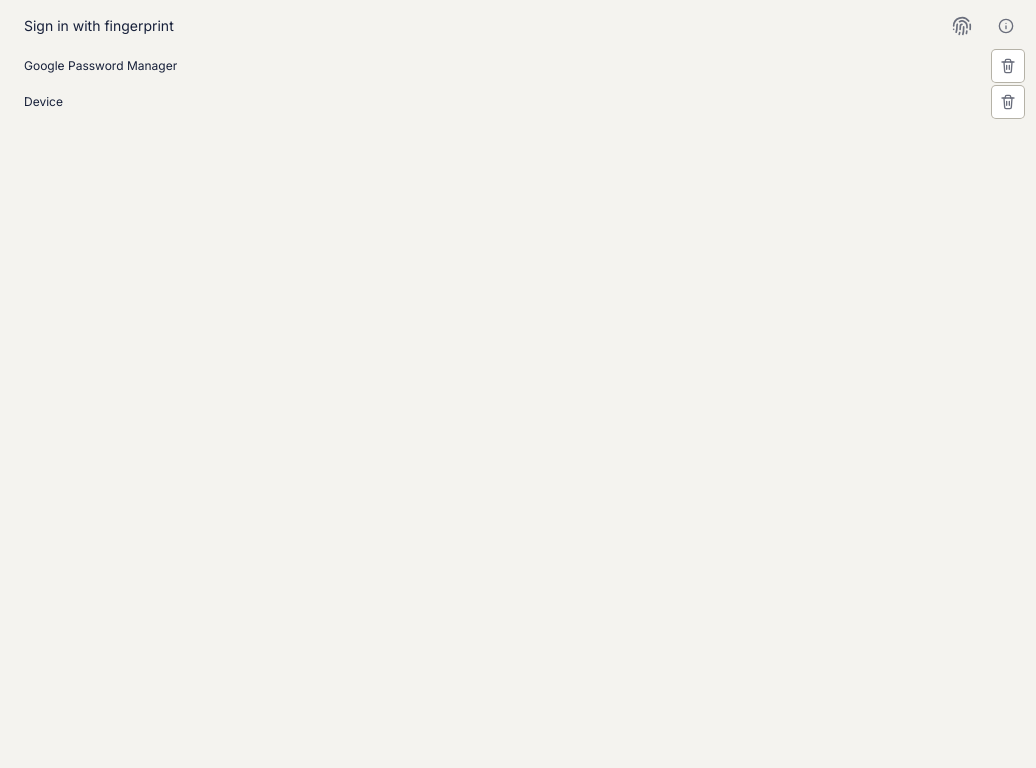
Test: PasskeySetting › removes a passkey, confirms it and drops it from the list
Click the button named "Remove Google Password Manager" at (1008, 66), box [992,50,1024,82]
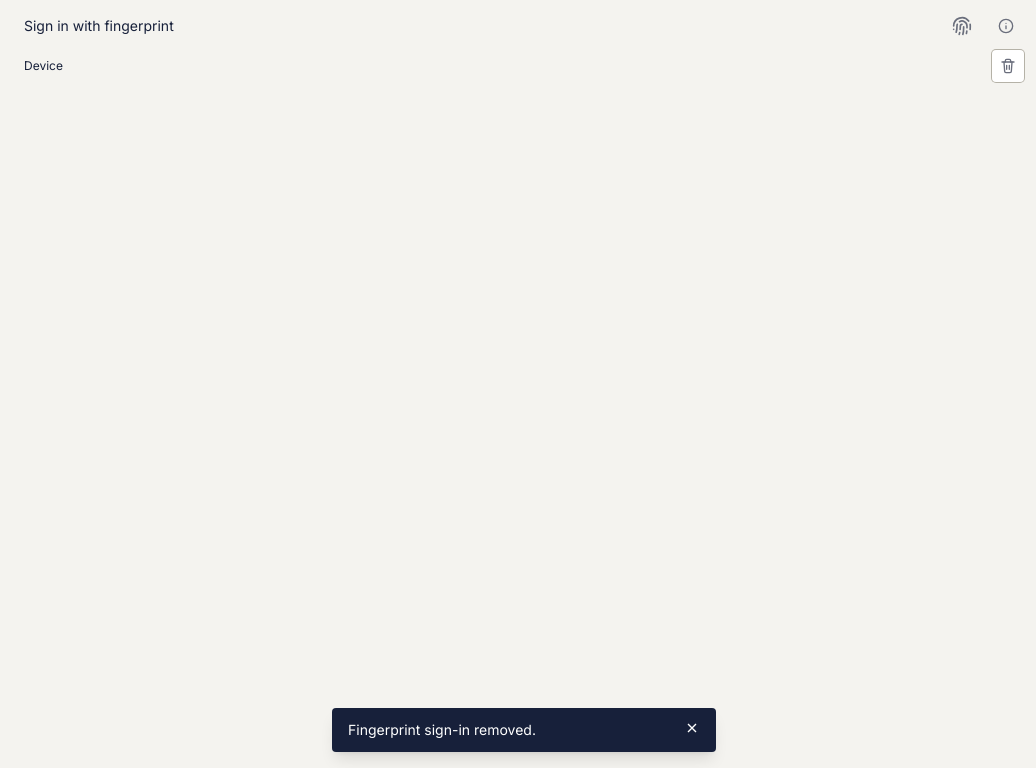
Expected: the element with test id "toast" reads "Fingerprint sign-in removed.", [348,721,536,738]
Expected: the number of list items with test id "passkey" is 1, [24,50,1024,82]
